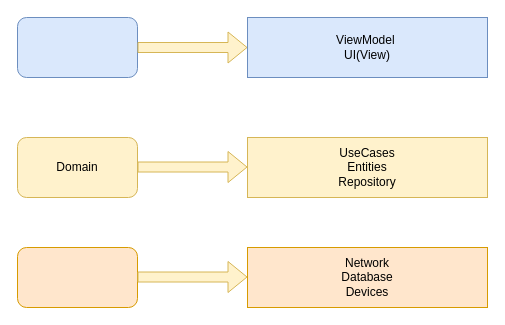
Image size: 505x325. Some labels were removed from this diagram. The centre of each missing label's shape, as x and y in pixels:
"Data Layer" belongs at (x=77, y=277).
"Presentation" belongs at (x=77, y=47).
